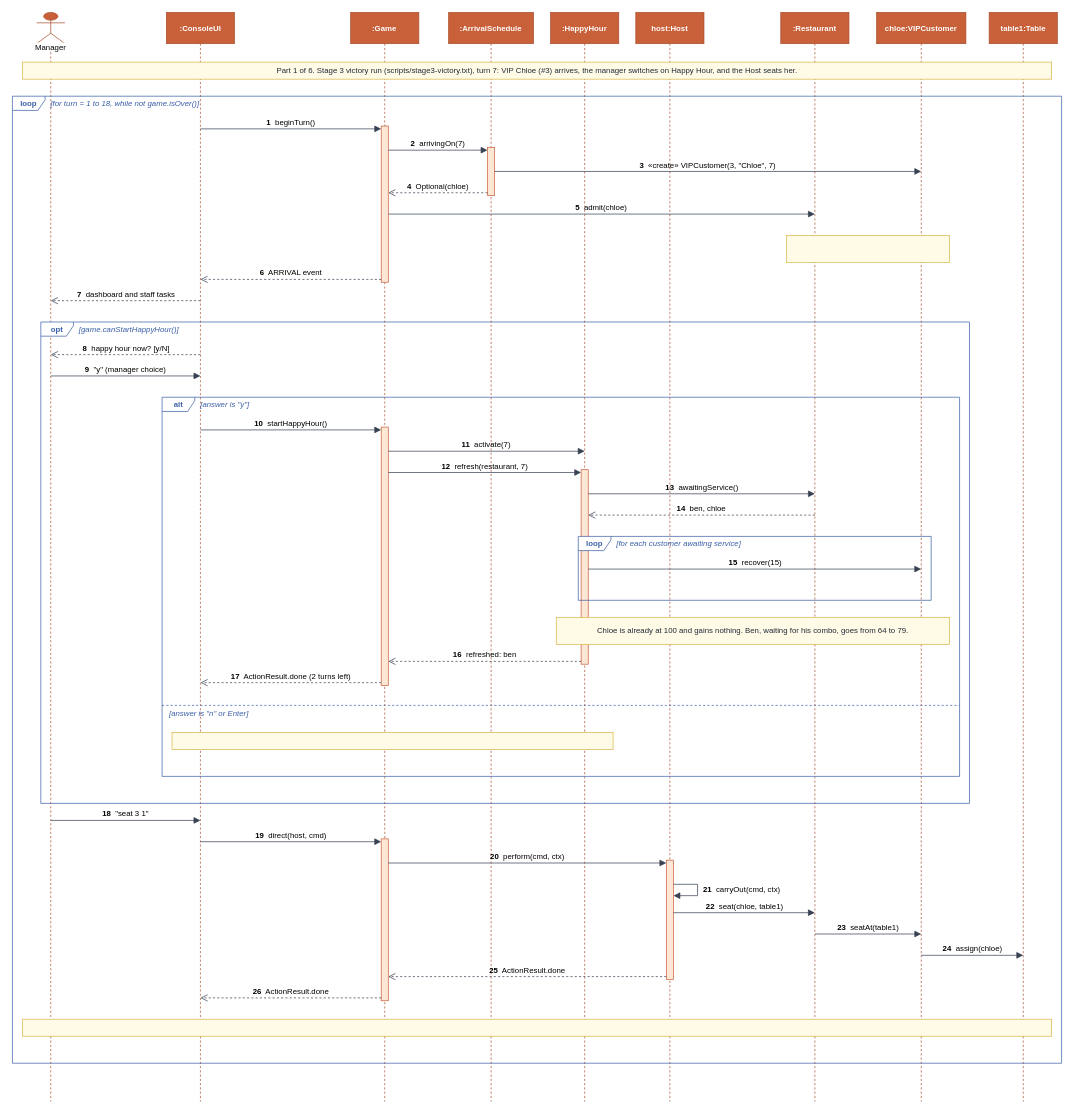
Image size: 1074x1114. Some labels were removed from this diagram. Each missing label, with the centre of its shape:
"Chloe joins the queue with satisfaction 100" belongs at pixel 868 248.
"no Happy Hour: Chloe's Pasta would be quoted at $16.20 (part 2)" belongs at pixel 392 740.
"Turn 7 continues in part 2: the Waiter takes Chloe's order." belongs at pixel 537 1027.
